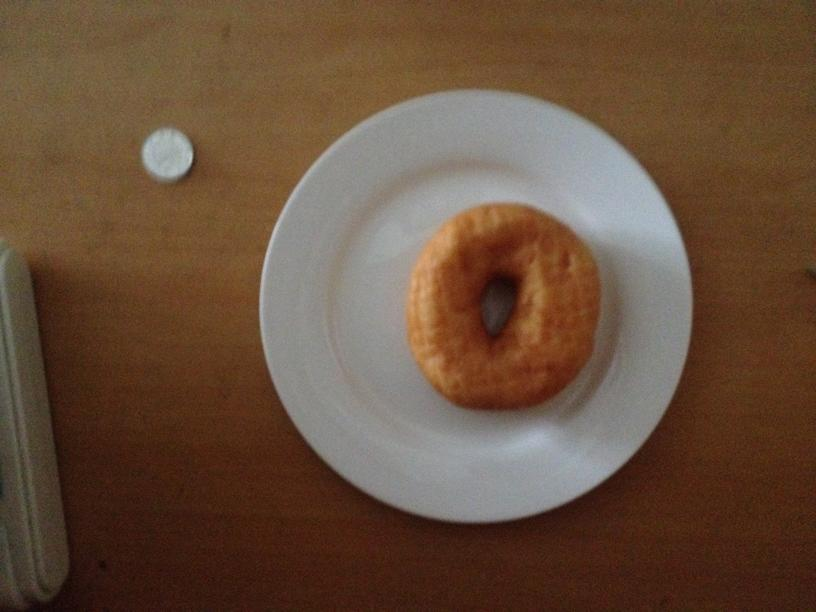coin: (140, 127, 193, 180)
doughnut: (407, 205, 599, 407)
